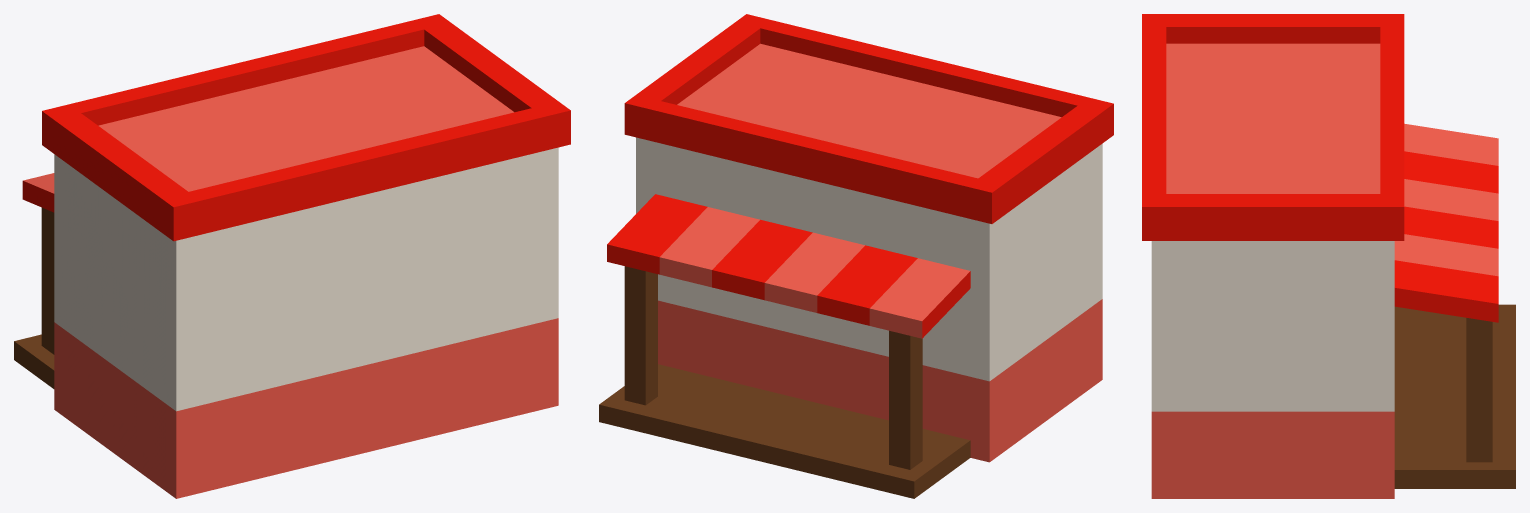
The model's file is Map-Shop-W-Lv2-R.fbx.
The picture shows the model from 3 angles, left to right: view 1: azimuth 30°, elevation 25°; view 2: azimuth 150°, elevation 25°; view 3: azimuth 270°, elevation 25°; orthographic projection. The views are drawn at different scales.
Parts seen in each view (by area): view 1: Map-Shop-W-Lv2-R; view 2: Map-Shop-W-Lv2-R; view 3: Map-Shop-W-Lv2-R.
Boxes of the visible parts, bbox=[...] form: Map-Shop-W-Lv2-R: bbox=[14, 14, 570, 498]; Map-Shop-W-Lv2-R: bbox=[599, 14, 1113, 498]; Map-Shop-W-Lv2-R: bbox=[1142, 14, 1515, 498].
Size of the model in its own units: 1.75 by 1.25 by 1.43.
